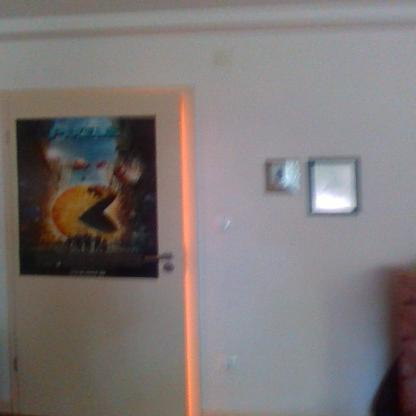door: (6, 93, 190, 416)
hinged: (11, 350, 24, 372), (6, 128, 14, 144)
lever: (142, 250, 174, 260)
